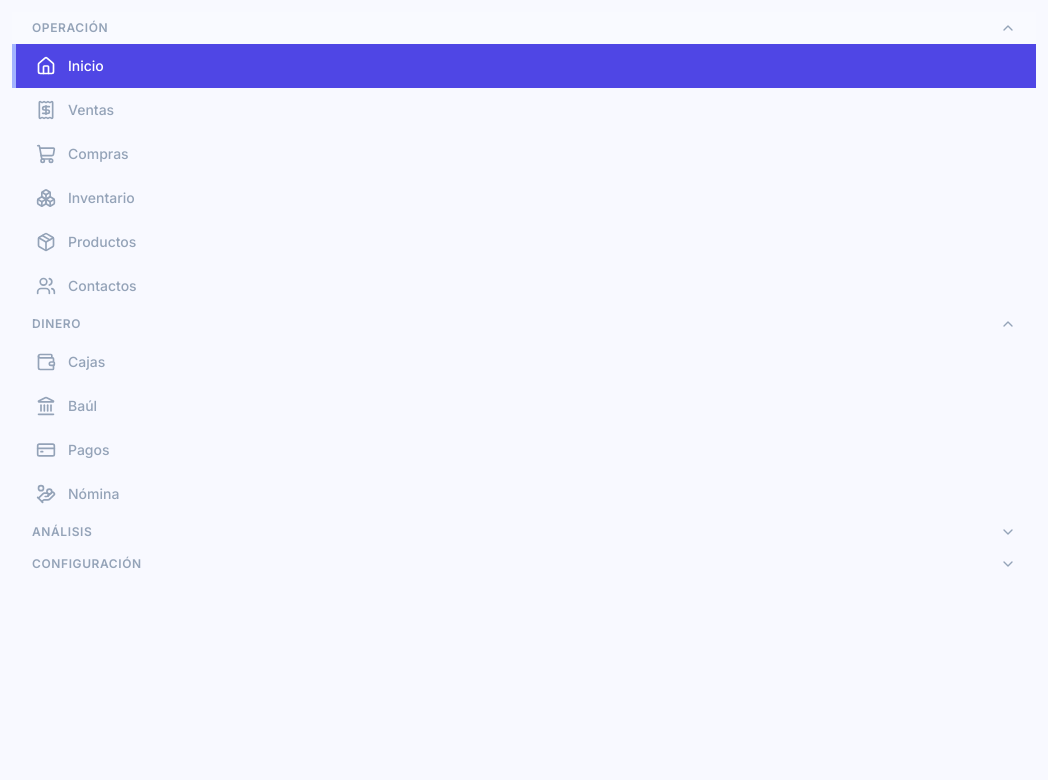
Scenario: AppNavLinks › falls back to the default state when localStorage throws
The image size is (1048, 780).
Step 1. Click the button "Análisis" → (62, 532), box [12,516,1036,548]
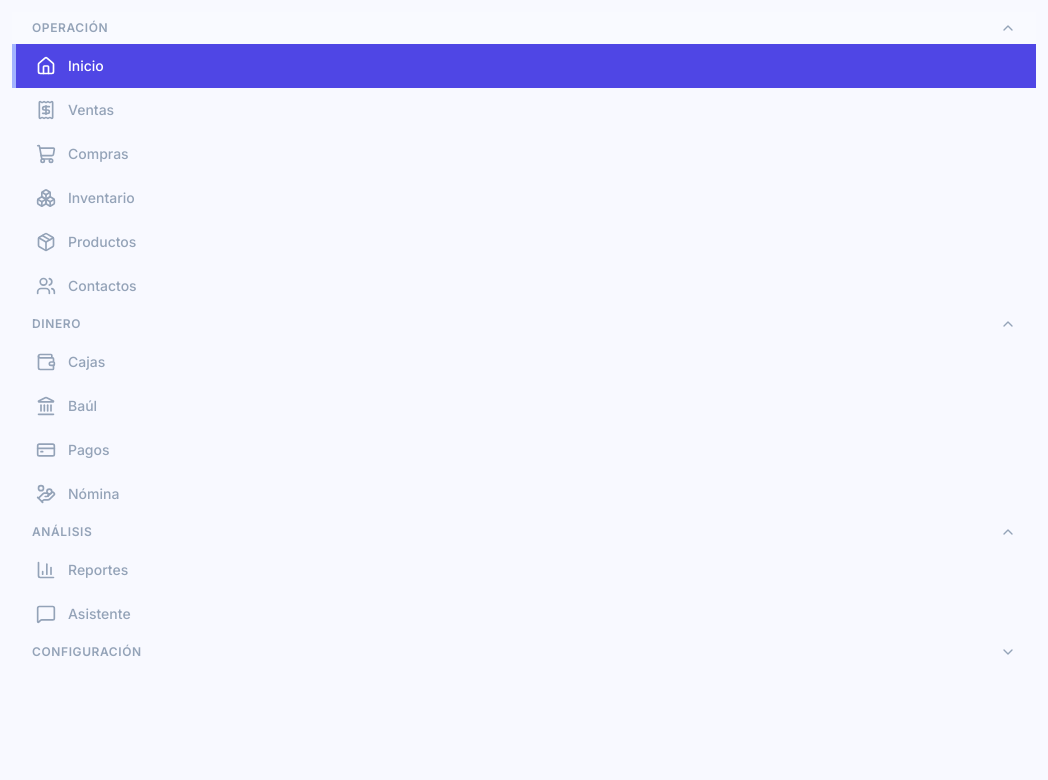
expect the button "Análisis" is expanded: met, box [12,516,1036,548]
expect the link "Reportes" is shown: met, box [36,560,128,580]
